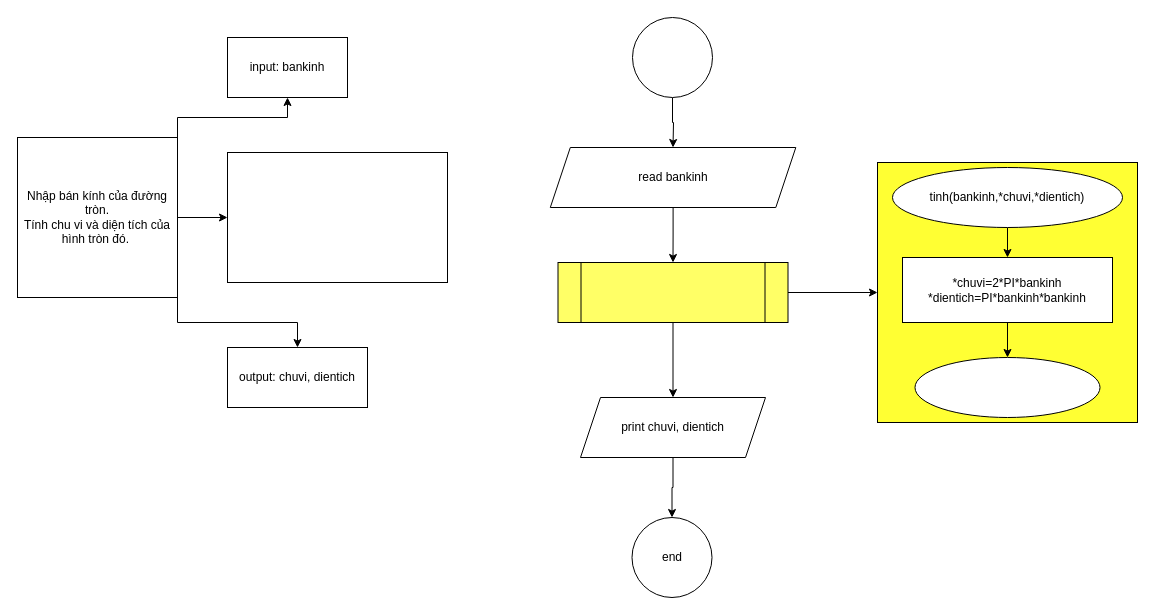
This 1155x615 diagram has some shape labels left out. The shapes that lost their labels are listed below. From the top down, each one's centre as x and y in pixels, then its label:
At point 672,57: "begin".
At point 337,217: "process: chuvi=2*PI*bankinh dientich=PI*bankinh*bankinh".
At point 672,292: "tinh(bankinh,&chuvi,&dientich)".
At point 1007,387: "return".
